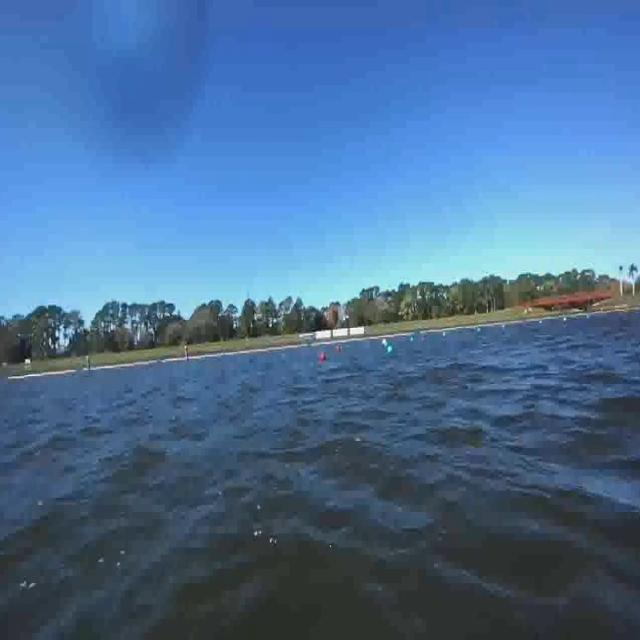red-buoy: (317, 352, 326, 362)
